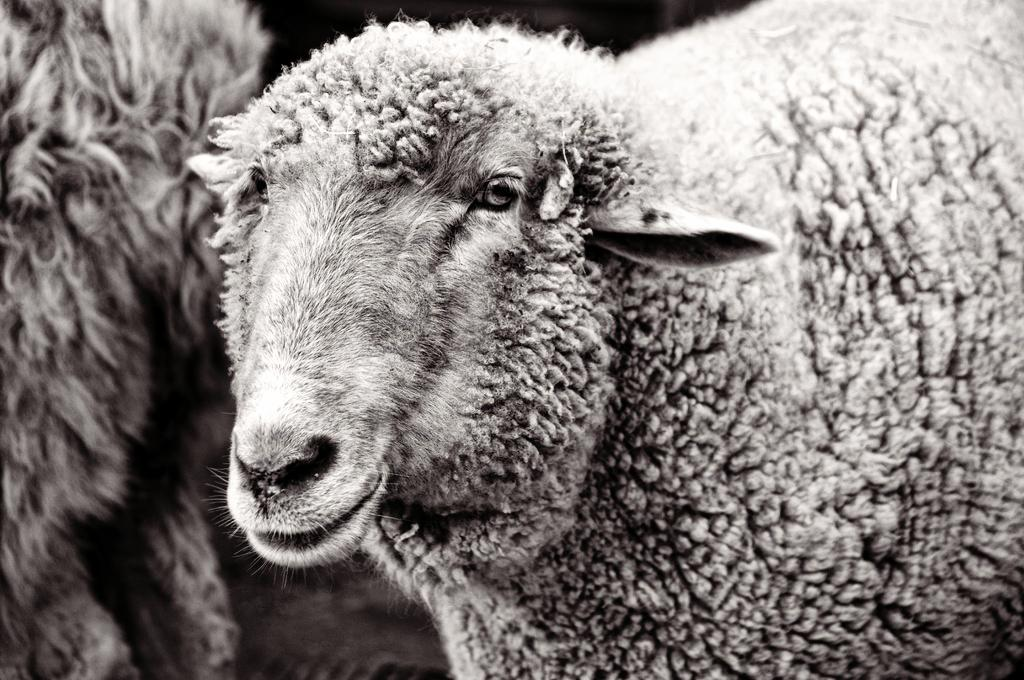Sheep: (172, 0, 1024, 679)
